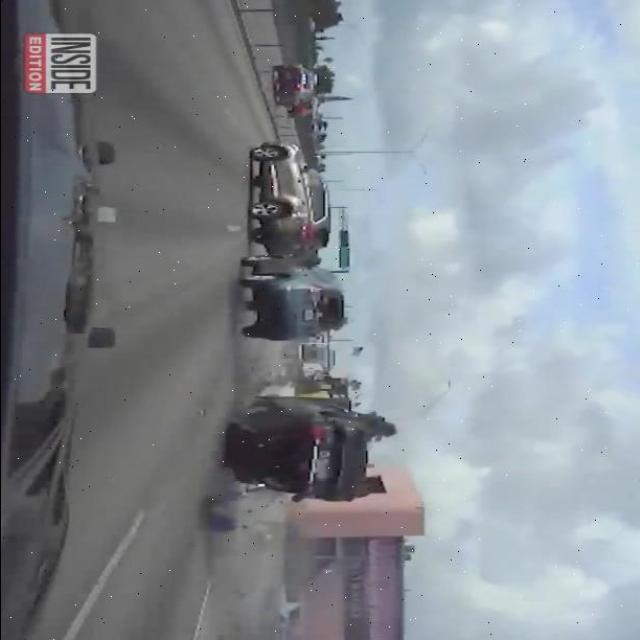accident: (219, 390, 401, 508)
